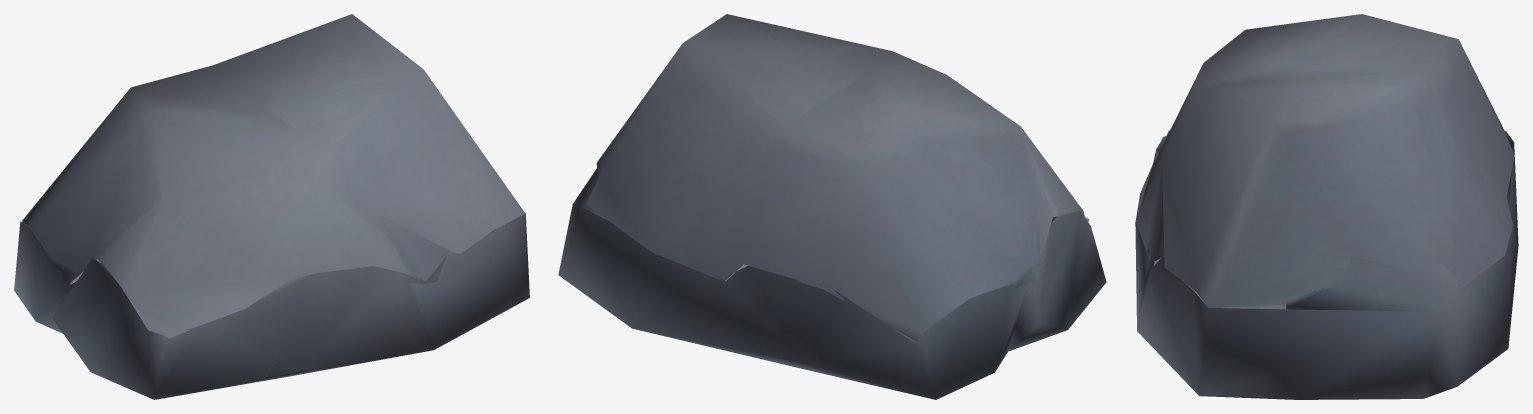
3 renders of one model, left to right at view 1: azimuth 30°, elevation 25°; view 2: azimuth 150°, elevation 25°; view 3: azimuth 270°, elevation 25°, orthographic. The views are drawn at different scales.
Visible parts, largest first — view 1: quad; view 2: quad; view 3: quad.
Boxes of the visible parts, x1,y1,x2,y2 form: quad: (14,14,529,399); quad: (558,14,1106,399); quad: (1135,14,1518,399).
Size of the model in its own units: 80 by 44.01 by 58.23.
Materials: 1 (1 with a texture image).
